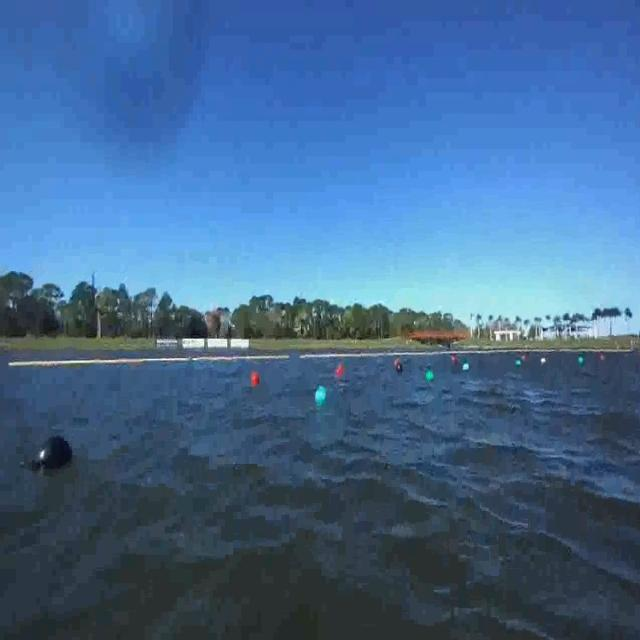black-buoy: (25, 418, 78, 490)
green-buoy: (315, 386, 327, 404), (426, 369, 434, 380), (577, 356, 584, 368)
red-buoy: (251, 372, 260, 389), (338, 365, 345, 374)
red-column-buoy: (451, 353, 455, 366)
